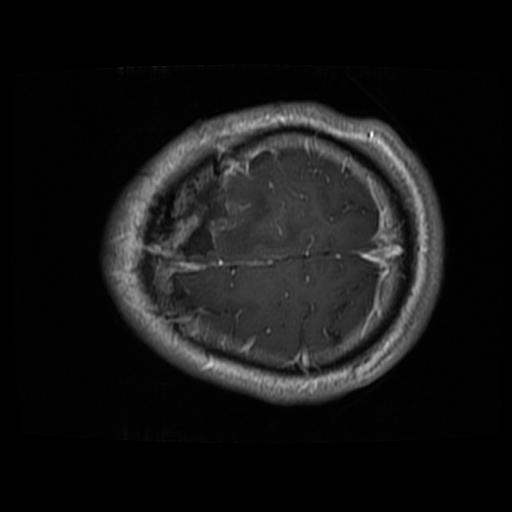glioma: (161, 162, 228, 264)
